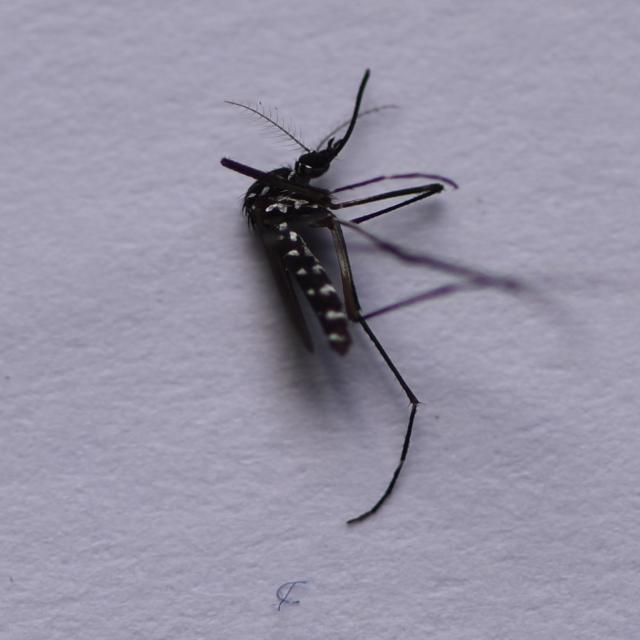albopictus: (193, 72, 502, 555)
